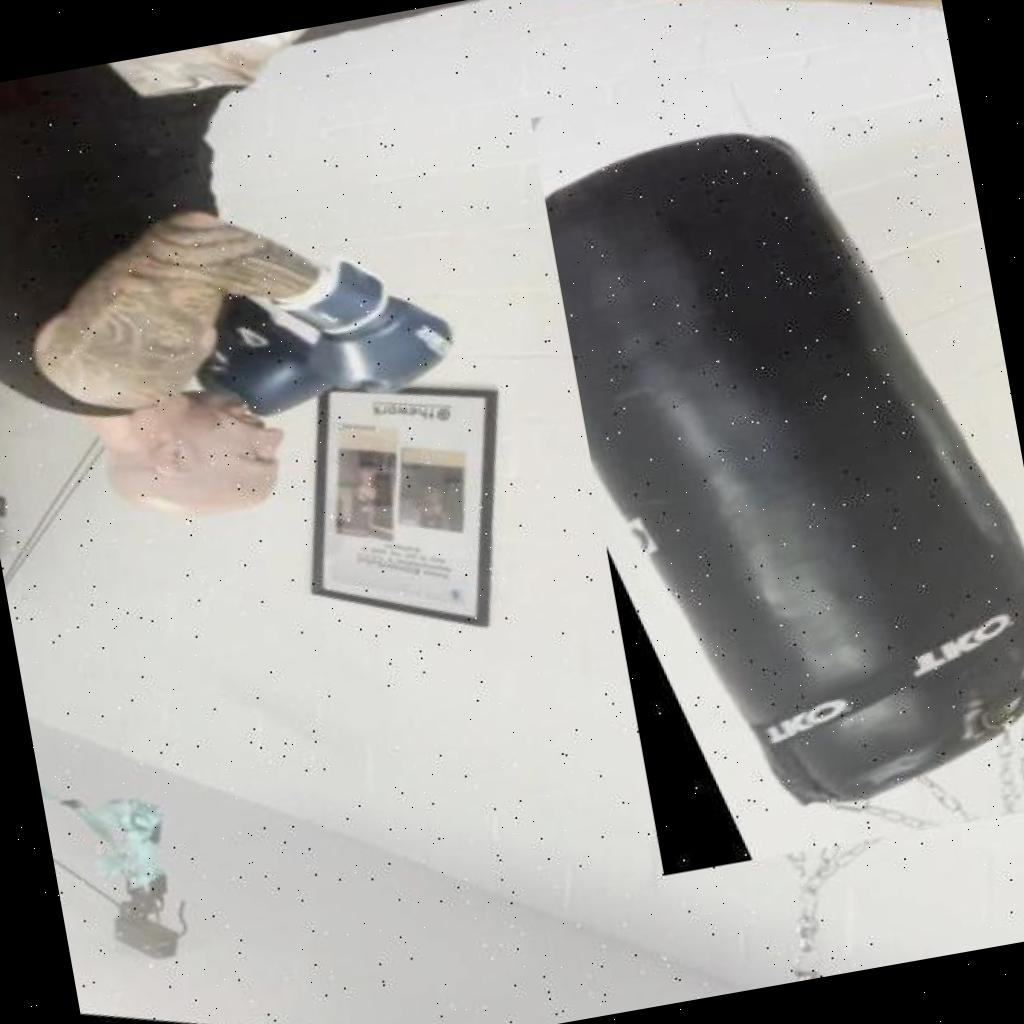bag: (531, 44, 1024, 875)
no punch: (0, 94, 541, 627)
